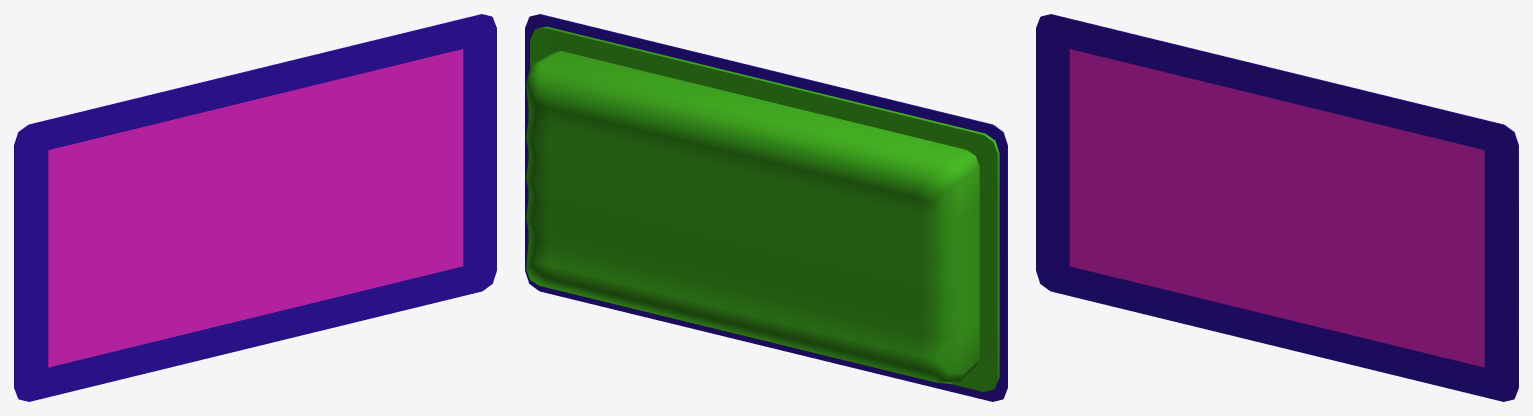
The model's file is Danmugi.fbx.
The picture shows the model from 3 angles, left to right: view 1: azimuth 30°, elevation 25°; view 2: azimuth 150°, elevation 25°; view 3: azimuth 330°, elevation 25°; orthographic projection.
Parts seen in each view (by area): view 1: Danmugi; view 2: Danmugi; view 3: Danmugi.
Part boxes in pixels (x1=…): Danmugi: x1=14, y1=14, x2=496, y2=401; Danmugi: x1=525, y1=14, x2=1007, y2=401; Danmugi: x1=1036, y1=14, x2=1518, y2=401.
Size of the model in its own units: 40.05 by 4.74 by 21.97.
